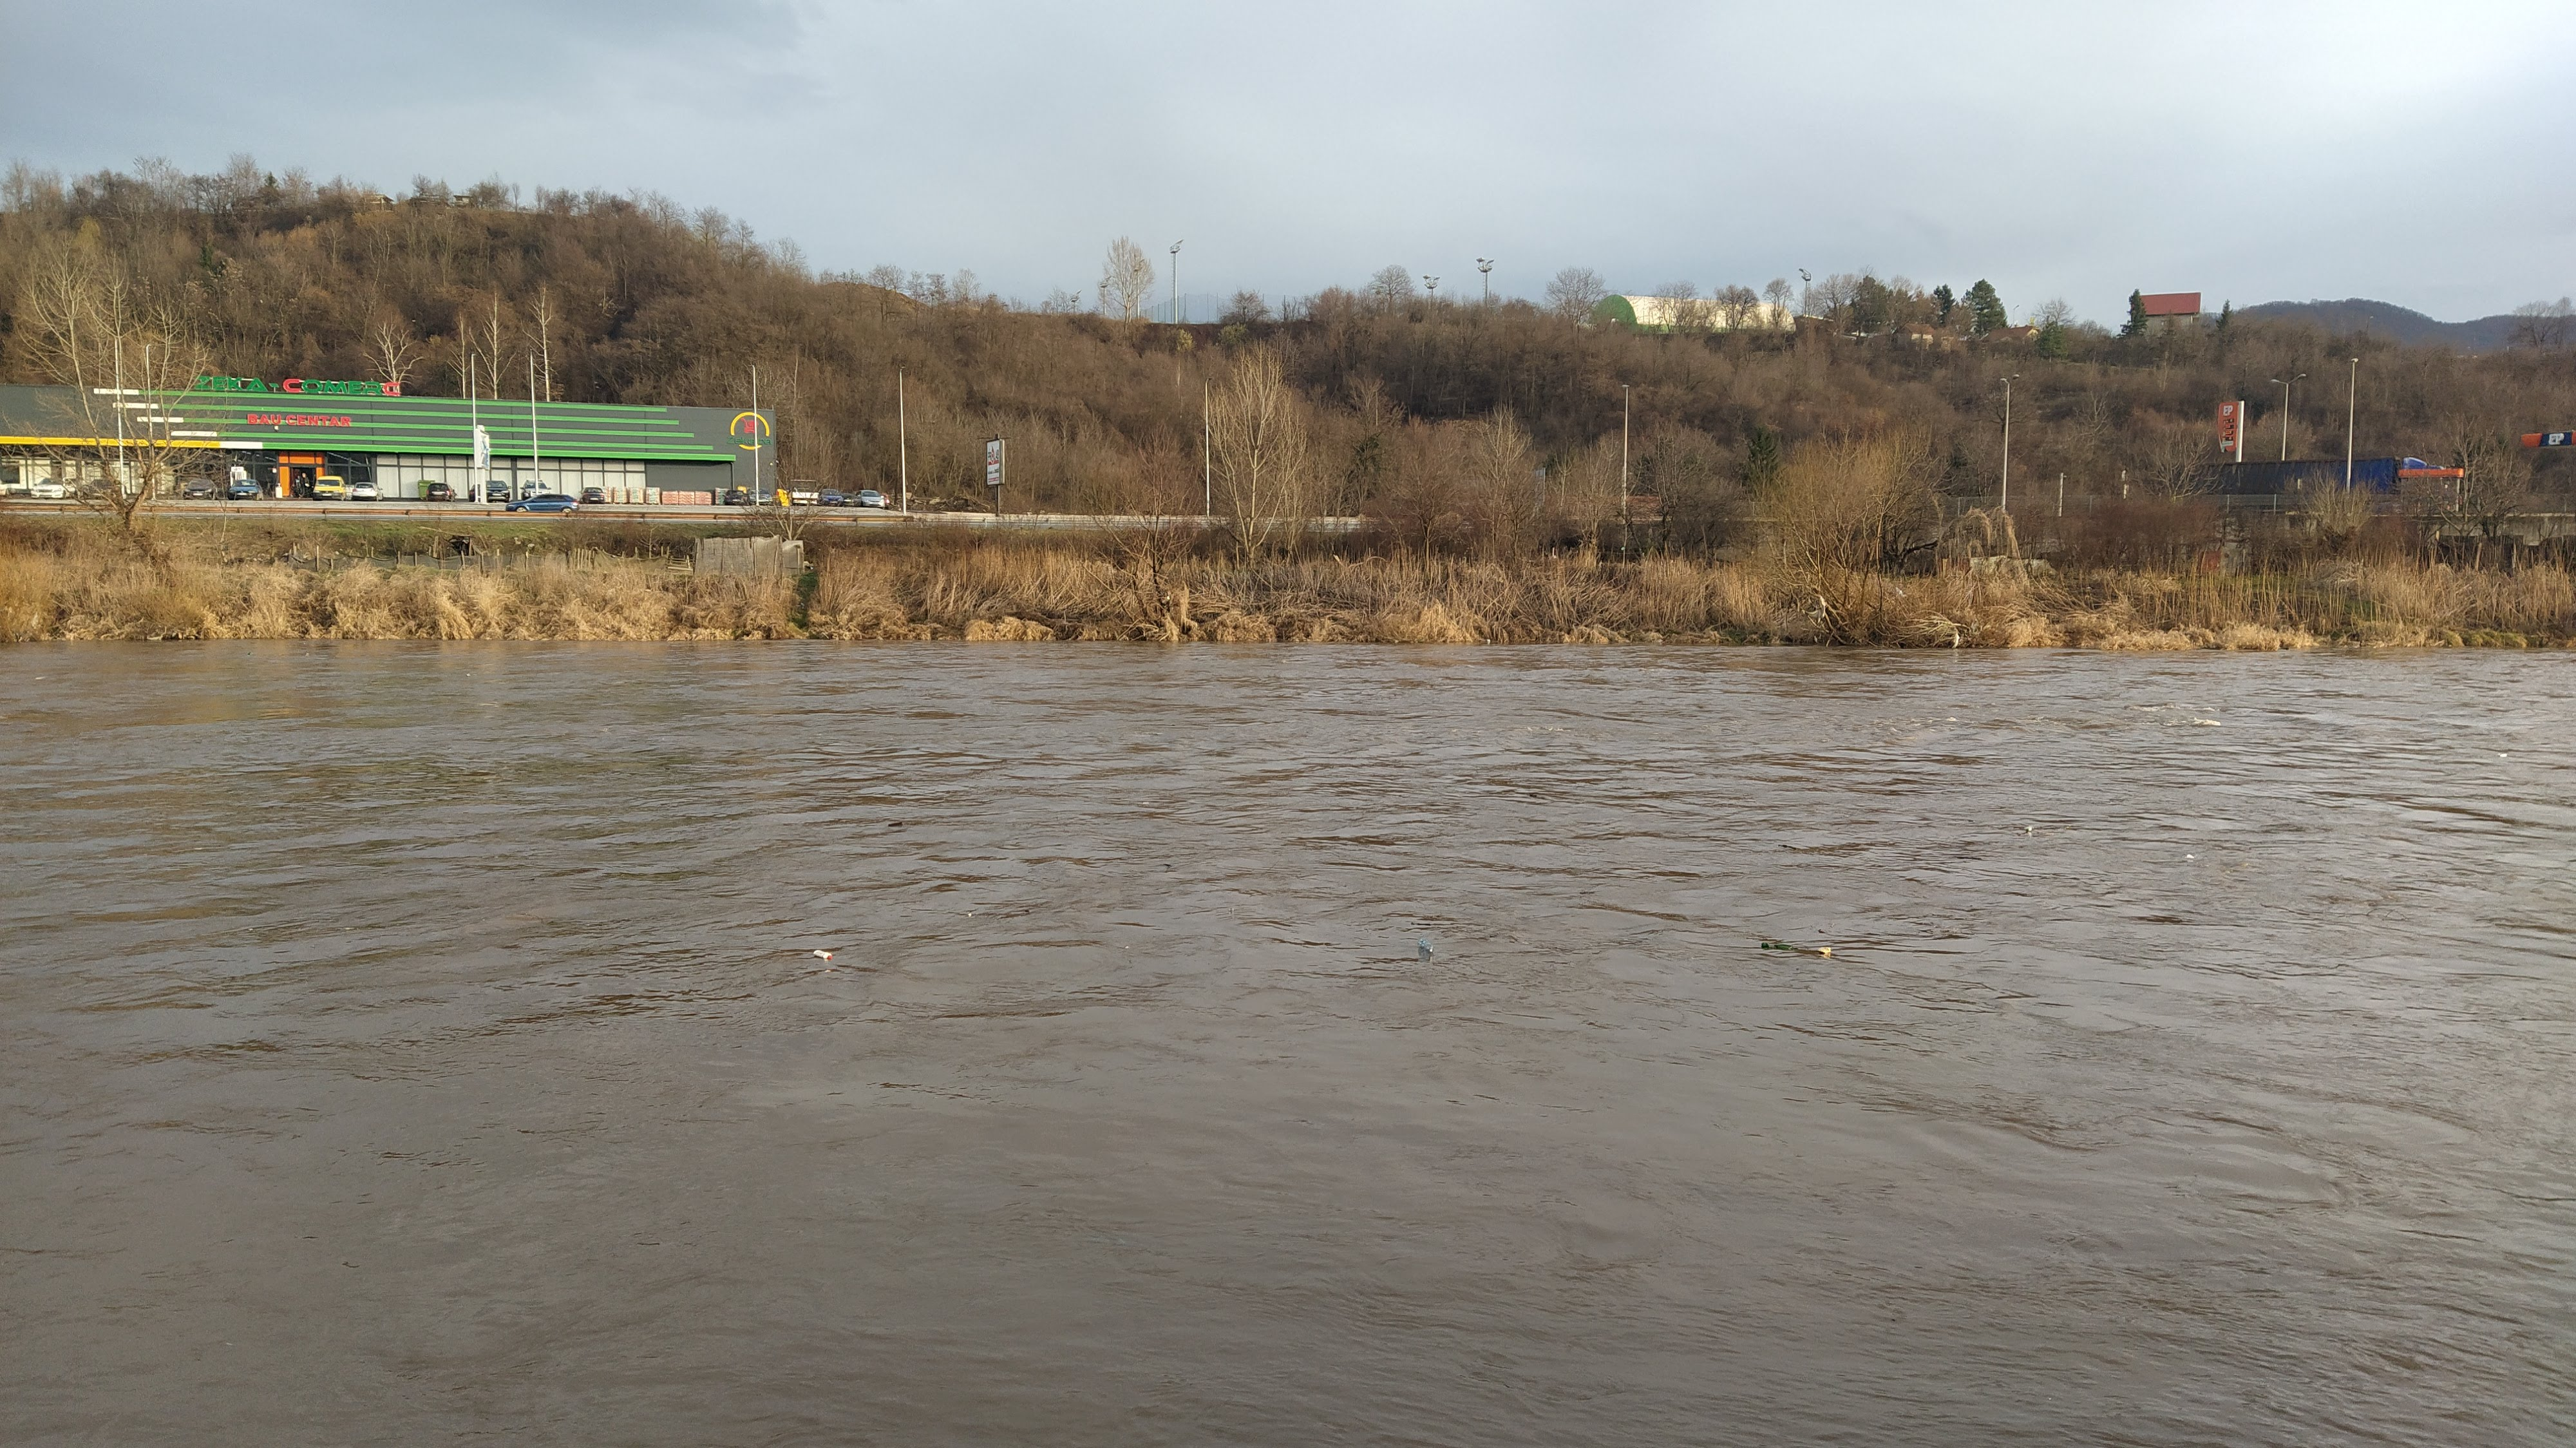Plastic Bottle: (1417, 936, 1433, 952), (812, 949, 832, 959), (1775, 944, 1792, 949), (2024, 825, 2036, 832), (1819, 947, 1831, 954), (888, 821, 902, 827), (1762, 942, 1767, 949), (2185, 855, 2194, 859), (2498, 752, 2505, 756), (248, 650, 251, 653)
